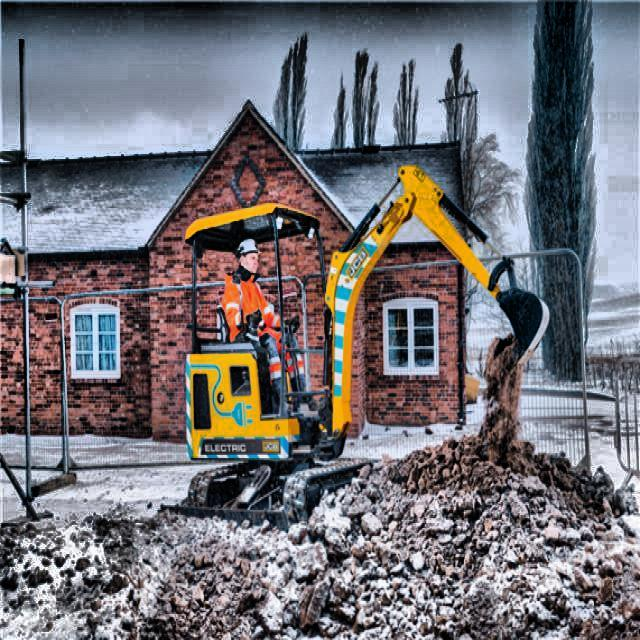bull_dozer/loader/grader: (166, 158, 552, 522)
person: (222, 237, 324, 431)
